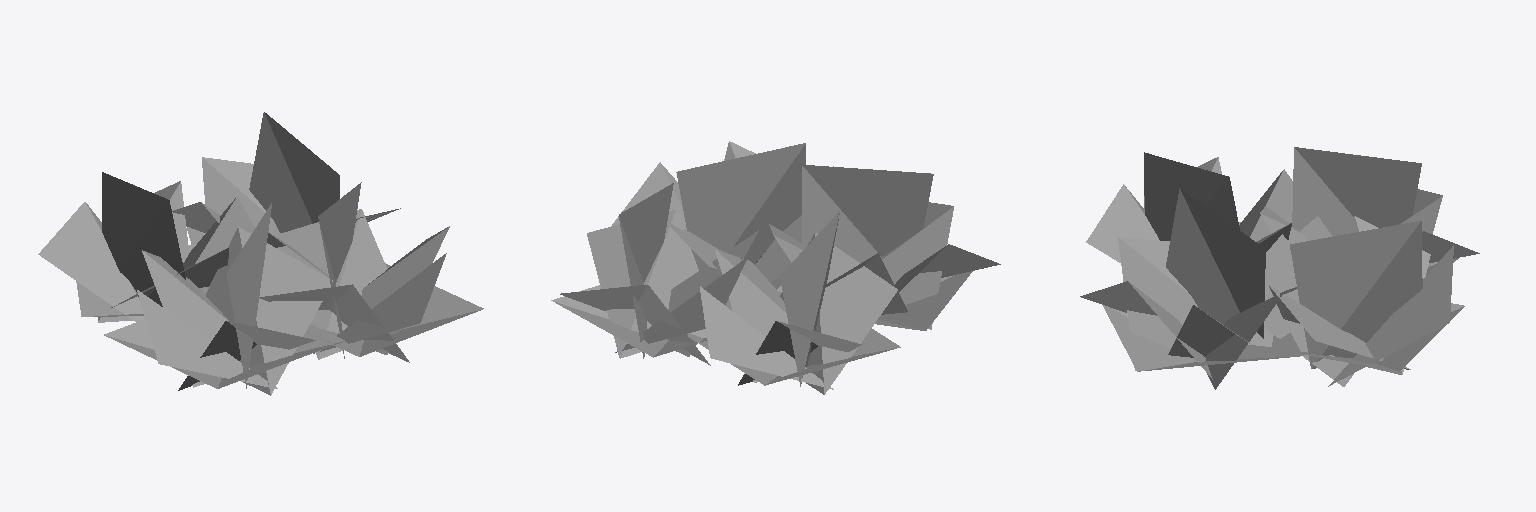
The model's file is grass.obj.
The picture shows the model from 3 angles: view 1: azimuth 30°, elevation 25°; view 2: azimuth 150°, elevation 25°; view 3: azimuth 270°, elevation 25°; orthographic projection.
Parts seen in each view (by area): view 1: kusamura1_kusamura1_kusamura.png.003; view 2: kusamura1_kusamura1_kusamura.png.003; view 3: kusamura1_kusamura1_kusamura.png.003.
Boxes of the visible parts, x1,y1,x2,y2 form: kusamura1_kusamura1_kusamura.png.003: [38, 112, 483, 395]; kusamura1_kusamura1_kusamura.png.003: [551, 141, 1000, 394]; kusamura1_kusamura1_kusamura.png.003: [1080, 147, 1479, 389].
Bounding box in the file's own units: 1.16 × 0.5012 × 1.21.